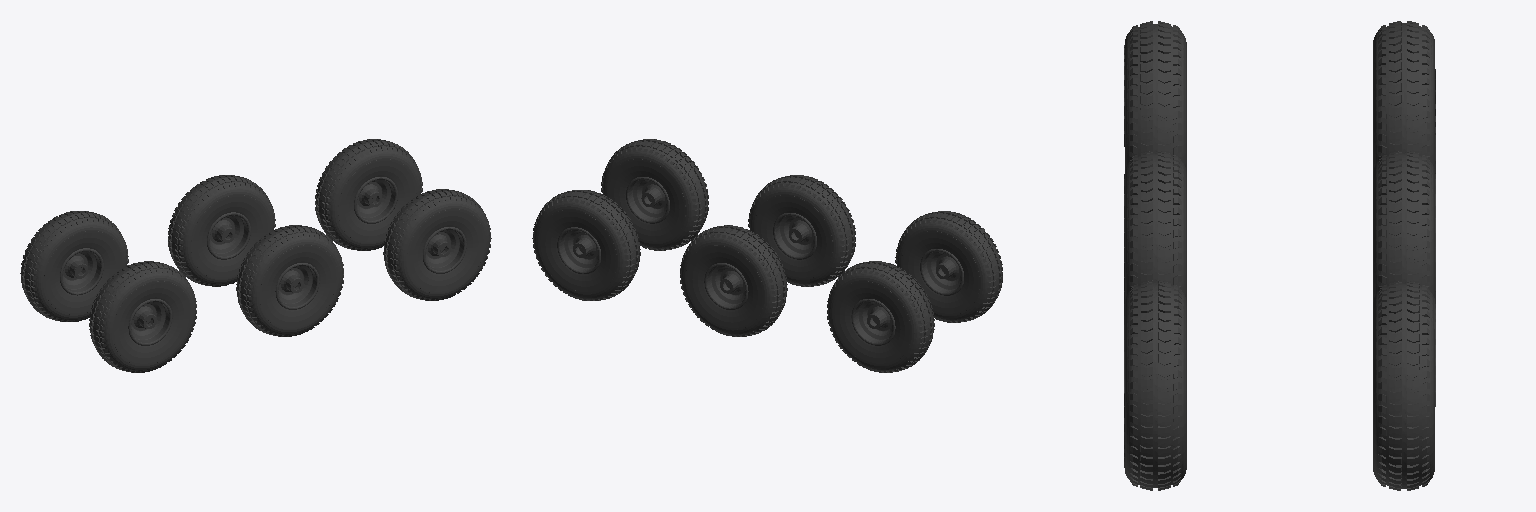
The robot description file, URDF, robot "complete_car_fixed":
<?xml version="1.0" encoding="utf-8"?>
<!-- This URDF was automatically created by SolidWorks to URDF Exporter! Originally created by Stephen Brawner (brawner@gmail.com) 
     Commit Version: 1.6.0-4-g7f85cfe  Build Version: 1.6.7995.38578
     For more information, please see http://wiki.ros.org/sw_urdf_exporter -->
<robot
  name="complete_car_fixed">
  <link
    name="body_car_chassis">
    <inertial>
      <origin
        xyz="7.10045591203468E-05 0.00451681538190256 0.0835422273180223"
        rpy="0 0 0" />
      <mass
        value="28.3852845916776" />
      <inertia
        ixx="0.234027226653602"
        ixy="-1.52350906570416E-06"
        ixz="9.20906417344322E-06"
        iyy="0.278121451726347"
        iyz="-0.00023909214768244"
        izz="0.438733635082758" />
    </inertial>
    <visual>
      <origin
        xyz="0 0 0"
        rpy="0 0 0" />
      <geometry>
        <mesh
          filename="package://complete_car_fixed/meshes/body_car_chassis.STL" />
      </geometry>
      <material
        name="">
        <color
          rgba="0.898039215686275 0.917647058823529 0.929411764705882 1" />
      </material>
    </visual>
    <collision>
      <origin
        xyz="0 0 0"
        rpy="0 0 0" />
      <geometry>
        <mesh
          filename="package://complete_car_fixed/meshes/body_car_chassis.STL" />
      </geometry>
    </collision>
  </link>
  <link
    name="body_car_wheel_left">
    <inertial>
      <origin
        xyz="-1.42112973111619E-06 -7.6668130766927E-07 -0.0458401618070401"
        rpy="0 0 0" />
      <mass
        value="1.55682391481766" />
      <inertia
        ixx="0.0196620727842836"
        ixy="-8.95629138787301E-07"
        ixz="4.85678375011339E-09"
        iyy="0.0196631942351112"
        iyz="-1.44805774300457E-08"
        izz="0.0351217717900437" />
    </inertial>
    <visual>
      <origin
        xyz="0 0 0"
        rpy="0 0 0" />
      <geometry>
        <mesh
          filename="package://complete_car_fixed/meshes/body_car_wheel_left.STL" />
      </geometry>
      <material
        name="">
        <color
          rgba="0.298039215686275 0.298039215686275 0.298039215686275 1" />
      </material>
    </visual>
    <collision>
      <origin
        xyz="0 0 0"
        rpy="0 0 0" />
      <geometry>
        <mesh
          filename="package://complete_car_fixed/meshes/body_car_wheel_left.STL" />
      </geometry>
    </collision>
  </link>
  <joint
    name="body_car_wheel_left_joint"
    type="continuous">
    <origin
      xyz="0 0.26953 0.0450000000000001"
      rpy="-1.5707963267949 0 0" />
    <parent
      link="body_car_chassis" />
    <child
      link="body_car_wheel_left" />
    <axis
      xyz="0 0 1" />
  </joint>
  <link
    name="body_car_wheel_right">
    <inertial>
      <origin
        xyz="-1.42113010137557E-06 -7.66681504428546E-07 0.0450001618070568"
        rpy="0 0 0" />
      <mass
        value="1.55682350721719" />
      <inertia
        ixx="0.0196619814383464"
        ixy="-8.95629139077082E-07"
        ixz="-4.8567835021032E-09"
        iyy="0.019663102889176"
        iyz="1.4480577435456E-08"
        izz="0.0351215520940664" />
    </inertial>
    <visual>
      <origin
        xyz="0 0 0"
        rpy="0 0 0" />
      <geometry>
        <mesh
          filename="package://complete_car_fixed/meshes/body_car_wheel_right.STL" />
      </geometry>
      <material
        name="">
        <color
          rgba="0.298039215686275 0.298039215686275 0.298039215686275 1" />
      </material>
    </visual>
    <collision>
      <origin
        xyz="0 0 0"
        rpy="0 0 0" />
      <geometry>
        <mesh
          filename="package://complete_car_fixed/meshes/body_car_wheel_right.STL" />
      </geometry>
    </collision>
  </link>
  <joint
    name="body_car_wheel_right_joint"
    type="continuous">
    <origin
      xyz="0 -0.26869 0.0450000000000001"
      rpy="-1.5707963267949 0 0" />
    <parent
      link="body_car_chassis" />
    <child
      link="body_car_wheel_right" />
    <axis
      xyz="0 0 1" />
  </joint>
  <link
    name="head_car_wheel_left">
    <inertial>
      <origin
        xyz="-1.4211297416971E-06 -7.66681303051436E-07 -0.0458401618070384"
        rpy="0 0 0" />
      <mass
        value="1.55682391481784" />
      <inertia
        ixx="0.019662072784285"
        ixy="-8.95629138617794E-07"
        ixz="4.85678391295934E-09"
        iyy="0.0196631942351138"
        iyz="-1.44805778337701E-08"
        izz="0.0351217717900471" />
    </inertial>
    <visual>
      <origin
        xyz="0 0 0"
        rpy="0 0 0" />
      <geometry>
        <mesh
          filename="package://complete_car_fixed/meshes/head_car_wheel_left.STL" />
      </geometry>
      <material
        name="">
        <color
          rgba="0.298039215686275 0.298039215686275 0.298039215686275 1" />
      </material>
    </visual>
    <collision>
      <origin
        xyz="0 0 0"
        rpy="0 0 0" />
      <geometry>
        <mesh
          filename="package://complete_car_fixed/meshes/head_car_wheel_left.STL" />
      </geometry>
    </collision>
  </link>
  <joint
    name="head_car_wheel_left_joint"
    type="continuous">
    <origin
      xyz="0.552977027756269 0.269454265283014 0.04445243146204"
      rpy="-1.57282819842474 0 0" />
    <parent
      link="body_car_chassis" />
    <child
      link="head_car_wheel_left" />
    <axis
      xyz="0 0 1" />
  </joint>
  <link
    name="head_car_wheel_right">
    <inertial>
      <origin
        xyz="-1.42113009684413E-06 -7.66681506208372E-07 0.0458401618070566"
        rpy="0 0 0" />
      <mass
        value="1.55682350721722" />
      <inertia
        ixx="0.0196619814383472"
        ixy="-8.95629138222092E-07"
        ixz="-4.85678372707691E-09"
        iyy="0.0196631028891757"
        iyz="1.44805774178681E-08"
        izz="0.0351215520940667" />
    </inertial>
    <visual>
      <origin
        xyz="0 0 0"
        rpy="0 0 0" />
      <geometry>
        <mesh
          filename="package://complete_car_fixed/meshes/head_car_wheel_right.STL" />
      </geometry>
      <material
        name="">
        <color
          rgba="0.298039215686275 0.298039215686275 0.298039215686275 1" />
      </material>
    </visual>
    <collision>
      <origin
        xyz="0 0 0"
        rpy="0 0 0" />
      <geometry>
        <mesh
          filename="package://complete_car_fixed/meshes/head_car_wheel_right.STL" />
      </geometry>
    </collision>
  </link>
  <joint
    name="head_car_wheel_right_joint"
    type="continuous">
    <origin
      xyz="0.552977027756237 -0.269604621962139 0.0455477314291638"
      rpy="-1.57282819842474 0 0" />
    <parent
      link="body_car_chassis" />
    <child
      link="head_car_wheel_right" />
    <axis
      xyz="0 0 1" />
  </joint>
  <link
    name="tail_car_wheel_left">
    <inertial>
      <origin
        xyz="-1.42112972900676E-06 -7.66681308956435E-07 -0.0458401618070386"
        rpy="0 0 0" />
      <mass
        value="1.55682391481766" />
      <inertia
        ixx="0.0196620727842825"
        ixy="-8.95629138567279E-07"
        ixz="4.85678374986245E-09"
        iyy="0.0196631942351119"
        iyz="-1.4480578026287E-08"
        izz="0.0351217717900435" />
    </inertial>
    <visual>
      <origin
        xyz="0 0 0"
        rpy="0 0 0" />
      <geometry>
        <mesh
          filename="package://complete_car_fixed/meshes/tail_car_wheel_left.STL" />
      </geometry>
      <material
        name="">
        <color
          rgba="0.298039215686275 0.298039215686275 0.298039215686275 1" />
      </material>
    </visual>
    <collision>
      <origin
        xyz="0 0 0"
        rpy="0 0 0" />
      <geometry>
        <mesh
          filename="package://complete_car_fixed/meshes/tail_car_wheel_left.STL" />
      </geometry>
    </collision>
  </link>
  <joint
    name="tail_car_wheel_left_joint"
    type="continuous">
    <origin
      xyz="-0.552977027756238 0.269604621962139 0.0455477314291636"
      rpy="-1.56876445516506 0 0" />
    <parent
      link="body_car_chassis" />
    <child
      link="tail_car_wheel_left" />
    <axis
      xyz="0 0 1" />
  </joint>
  <link
    name="tail_car_wheel_right">
    <inertial>
      <origin
        xyz="-1.42113011025735E-06 -7.66681496521676E-07 0.045840161807055"
        rpy="0 0 0" />
      <mass
        value="1.5568235072174" />
      <inertia
        ixx="0.0196619814383487"
        ixy="-8.95629138469562E-07"
        ixz="-4.85678402566518E-09"
        iyy="0.0196631028891769"
        iyz="1.44805782550145E-08"
        izz="0.0351215520940696" />
    </inertial>
    <visual>
      <origin
        xyz="0 0 0"
        rpy="0 0 0" />
      <geometry>
        <mesh
          filename="package://complete_car_fixed/meshes/tail_car_wheel_right.STL" />
      </geometry>
      <material
        name="">
        <color
          rgba="0.298039215686275 0.298039215686275 0.298039215686275 1" />
      </material>
    </visual>
    <collision>
      <origin
        xyz="0 0 0"
        rpy="0 0 0" />
      <geometry>
        <mesh
          filename="package://complete_car_fixed/meshes/tail_car_wheel_right.STL" />
      </geometry>
    </collision>
  </link>
  <joint
    name="tail_car_wheel_right_joint"
    type="continuous">
    <origin
      xyz="-0.552977027756269 -0.269454265283014 0.0444524314620399"
      rpy="-1.56876445516506 0 0" />
    <parent
      link="body_car_chassis" />
    <child
      link="tail_car_wheel_right" />
    <axis
      xyz="0 0 1" />
  </joint>
</robot>

--- What the picture shows (computed from the rendered views, not written in the file) ---
3 views of the same robot in one strip: view 1: azimuth 30°, elevation 25°; view 2: azimuth 150°, elevation 25°; view 3: azimuth 270°, elevation 25° (orthographic).
Robot: complete_car_fixed — 7 links, 6 joints (6 continuous); root link body_car_chassis; default pose: every joint at zero.
Links seen in each view (by area): view 1: head_car_wheel_right, body_car_wheel_right, tail_car_wheel_right, tail_car_wheel_left, body_car_wheel_left, head_car_wheel_left; view 2: tail_car_wheel_left, body_car_wheel_left, head_car_wheel_left, head_car_wheel_right, body_car_wheel_right, tail_car_wheel_right; view 3: head_car_wheel_right, head_car_wheel_left, body_car_wheel_right, body_car_wheel_left, tail_car_wheel_left, tail_car_wheel_right.
Boxes of the visible links, x1=… form: head_car_wheel_right: x1=383, y1=189, x2=491, y2=300; body_car_wheel_right: x1=236, y1=225, x2=343, y2=336; tail_car_wheel_right: x1=89, y1=261, x2=196, y2=372; tail_car_wheel_left: x1=20, y1=211, x2=128, y2=321; body_car_wheel_left: x1=168, y1=175, x2=275, y2=286; head_car_wheel_left: x1=315, y1=139, x2=422, y2=250; tail_car_wheel_left: x1=827, y1=261, x2=934, y2=372; body_car_wheel_left: x1=680, y1=225, x2=787, y2=336; head_car_wheel_left: x1=532, y1=190, x2=640, y2=300; head_car_wheel_right: x1=601, y1=139, x2=708, y2=250; body_car_wheel_right: x1=748, y1=175, x2=855, y2=286; tail_car_wheel_right: x1=895, y1=211, x2=1002, y2=322; head_car_wheel_right: x1=1124, y1=280, x2=1186, y2=490; head_car_wheel_left: x1=1373, y1=281, x2=1435, y2=490; body_car_wheel_right: x1=1124, y1=151, x2=1186, y2=328; body_car_wheel_left: x1=1373, y1=151, x2=1435, y2=303; tail_car_wheel_left: x1=1373, y1=21, x2=1435, y2=173; tail_car_wheel_right: x1=1124, y1=21, x2=1186, y2=170.
Bounding box of the posed robot: 1.49 × 0.5607 × 0.3809 m (x, y, z).
6 mesh visuals loaded from 7 distinct referenced files (6 binary STL); not drawn: 1 (reference not matched to a file when rendering).
